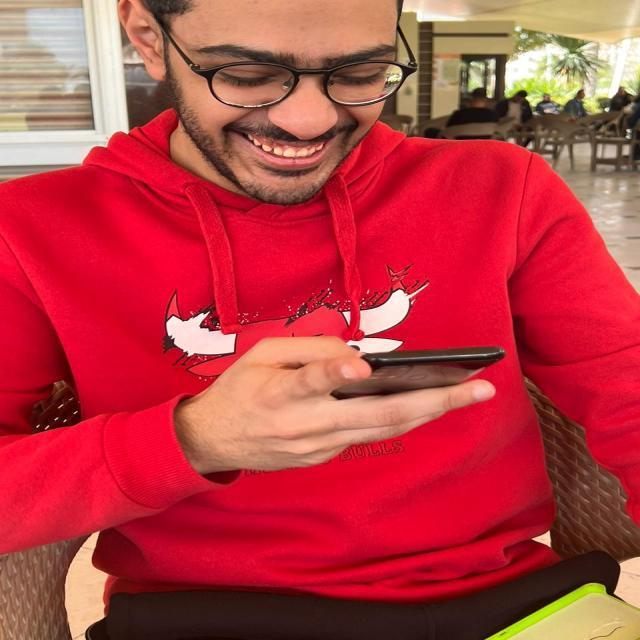phone: (332, 350, 506, 396)
